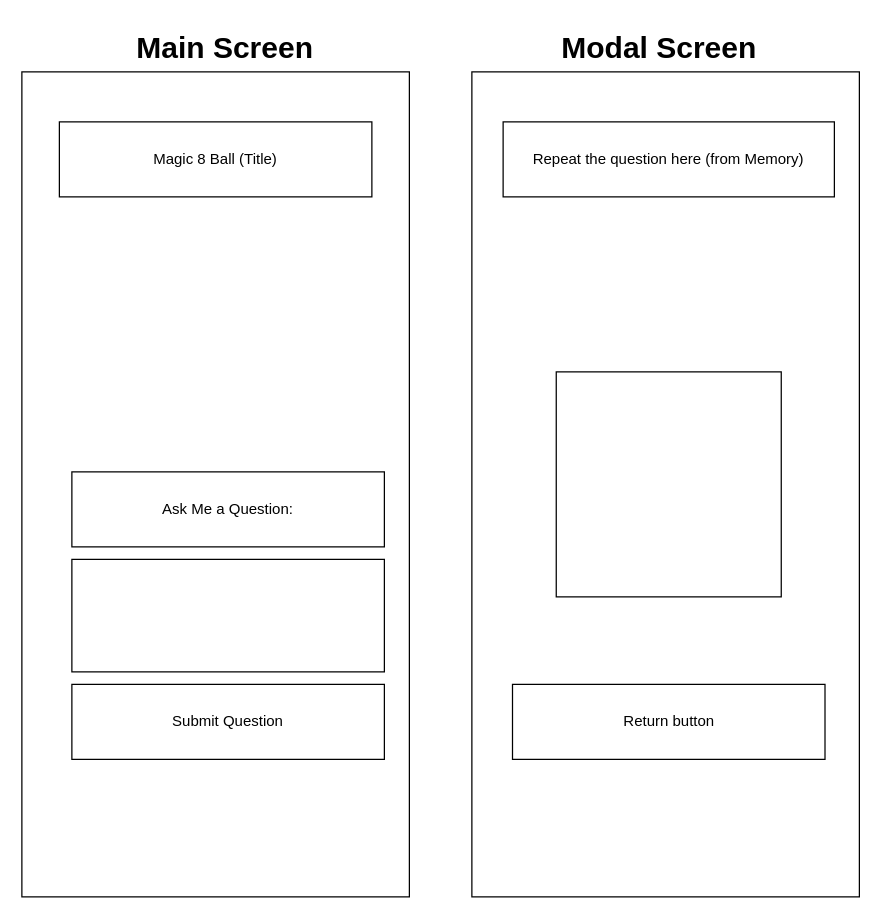
Image size: 881x919. Some labels were removed from this diagram. Each missing label, with the centre of its shape:
"Display the answer here" belongs at [668,484].
"Enter your question Here:" belongs at [227,615].
